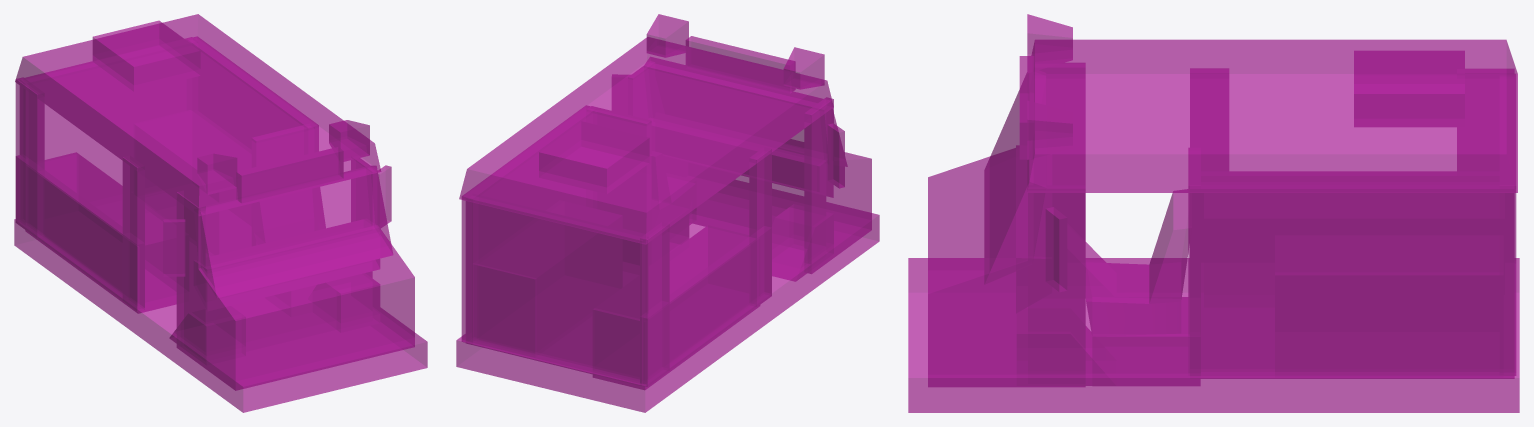
File: SM_Veh_Truck_Food_01_Collision.fbx
3 renders of one model, left to right at view 1: azimuth 30°, elevation 25°; view 2: azimuth 150°, elevation 25°; view 3: azimuth 270°, elevation 25°, orthographic. The views are drawn at different scales.
Parts seen in each view (by area): view 1: SM_Veh_Truck_Food_01_Collision; view 2: SM_Veh_Truck_Food_01_Collision; view 3: SM_Veh_Truck_Food_01_Collision.
Boxes of the visible parts, left/top/right/bottom form: SM_Veh_Truck_Food_01_Collision: left=14, top=14, right=427, bottom=412; SM_Veh_Truck_Food_01_Collision: left=456, top=14, right=879, bottom=412; SM_Veh_Truck_Food_01_Collision: left=908, top=14, right=1519, bottom=412.
Bounding box in the file's own units: 270 × 241 × 470.
